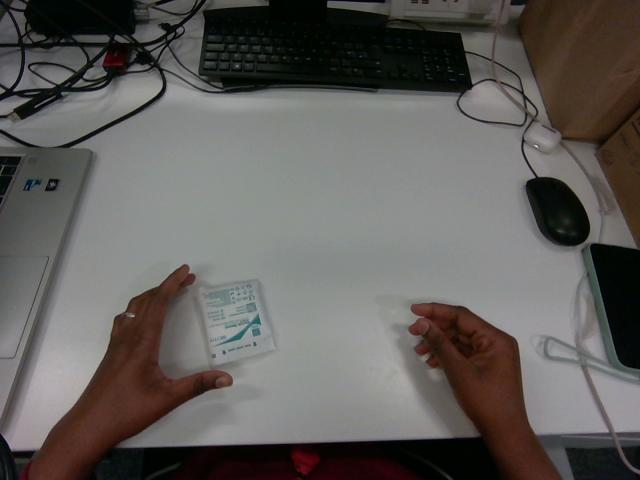gauze: (197, 280, 274, 365)
